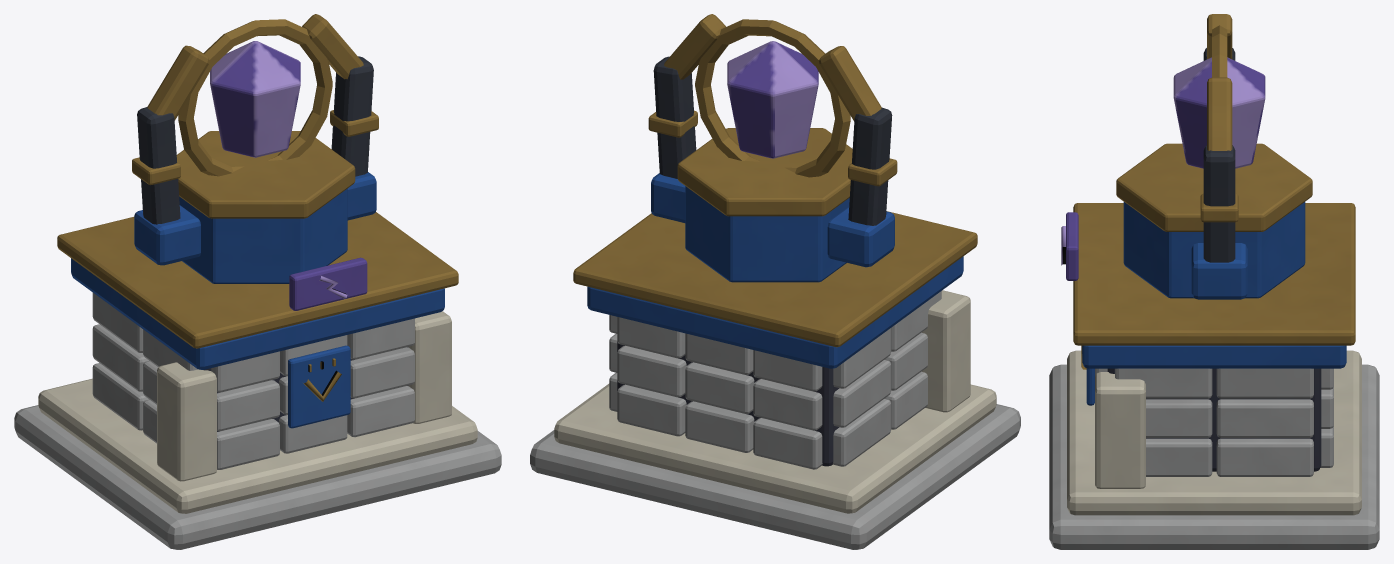
Rendered from electric_tower_low.glb.
3 views of the same model, side by side, from view 1: azimuth 30°, elevation 25°; view 2: azimuth 150°, elevation 25°; view 3: azimuth 270°, elevation 25° (orthographic).
Visible parts, largest first — view 1: electric_tower_low_surface; view 2: electric_tower_low_surface; view 3: electric_tower_low_surface.
Boxes of the visible parts, x1,y1,x2,y2 form: electric_tower_low_surface: (14, 14, 501, 549); electric_tower_low_surface: (530, 14, 1020, 549); electric_tower_low_surface: (1049, 14, 1379, 549).
Size of the model in its own units: 1.53 by 1.9 by 1.3.
Materials: 1 (1 with a texture image).
